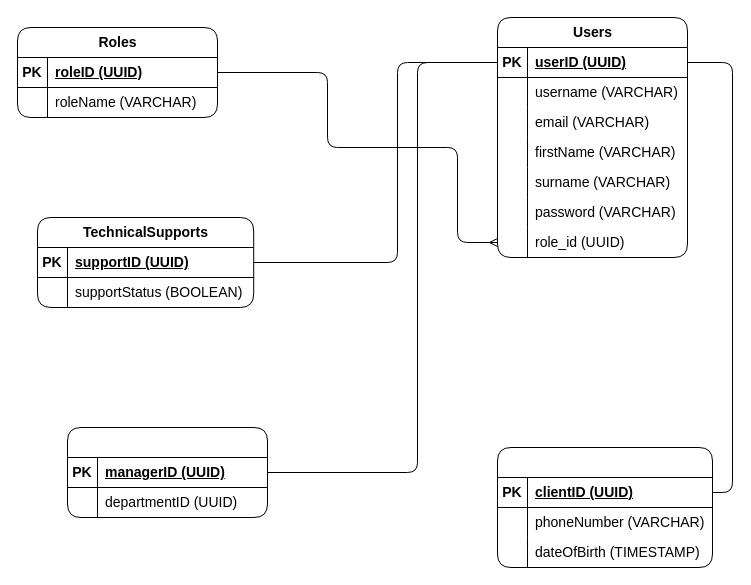
Some shapes in this 751 by 585 pixel diagram are drawn without their labels. The box of each missing label's shape, as (x1, y1, x2, y2) in pixels:
Clients: (496, 446, 712, 568)
Managers: (66, 426, 268, 518)
